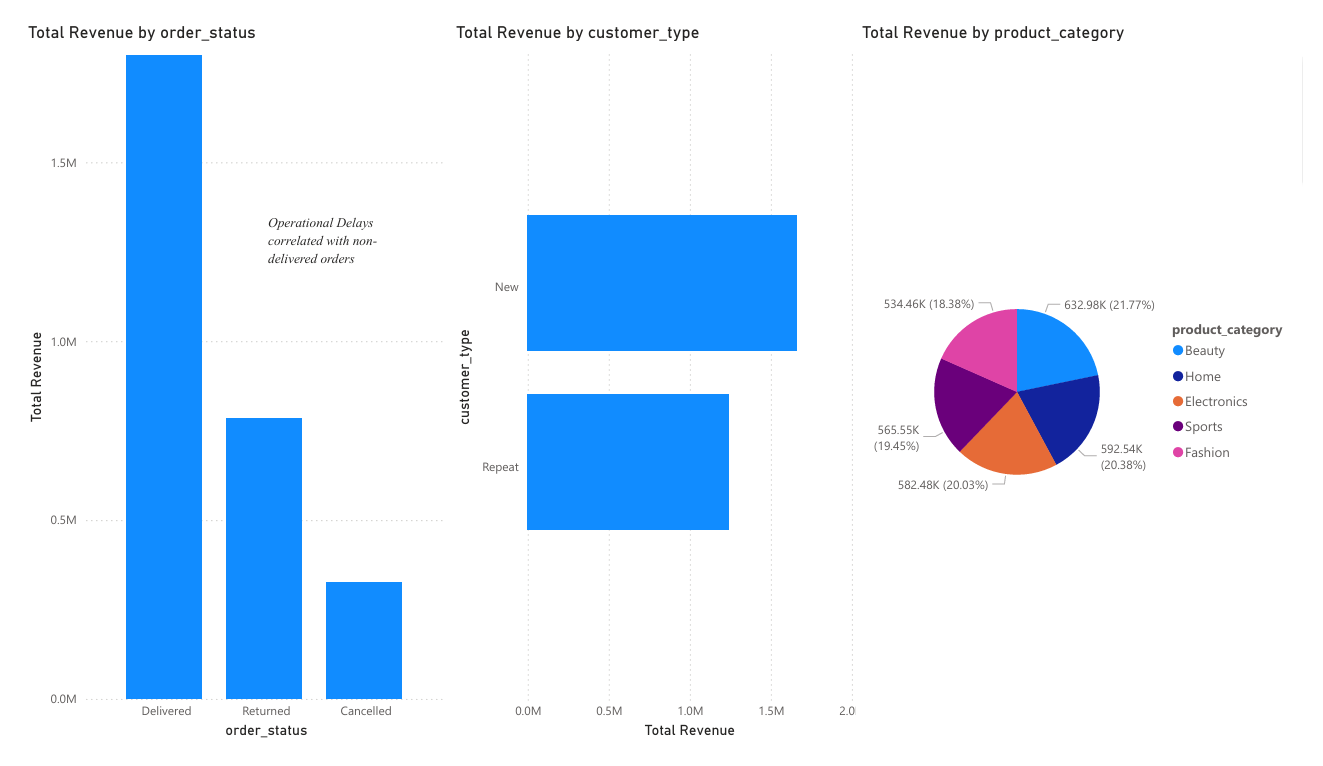

This screenshot's page, from the dashboard's own definition file:
{"tool":"powerbi","page":{"name":"Page 2","canvas":[1280,720],"ordinal":1},"visuals":[{"type":"columnChart","fields":{"Category":["revenue_decline_orders.order_status"],"Y":["revenue_decline_orders.Total Revenue"]},"box":[0,0,428,721],"z":0},{"type":"barChart","fields":{"Y":["revenue_decline_orders.Total Revenue"],"Category":["revenue_decline_orders.customer_type"]},"box":[428,0,420.2,721],"z":1},{"type":"pieChart","fields":{"Category":["revenue_decline_orders.product_category"],"Y":["revenue_decline_orders.Total Revenue"]},"box":[834,0,446.3,721.5],"z":2},{"type":"textbox","box":[239.7,185.9,160.2,72.1],"z":3}]}

Visuals, with their boxes in screenshot pixels (x1, y1, x2, y2), scaled from the page's 1280x720 canvas onto the 1323x766 screenshot:
columnChart - revenue_decline_orders.order_status x revenue_decline_orders.Total Revenue: BBox(0, 0, 442, 765)
barChart - revenue_decline_orders.Total Revenue x revenue_decline_orders.customer_type: BBox(442, 0, 877, 765)
pieChart - revenue_decline_orders.product_category x revenue_decline_orders.Total Revenue: BBox(862, 0, 1322, 765)
textbox: BBox(248, 198, 413, 274)
